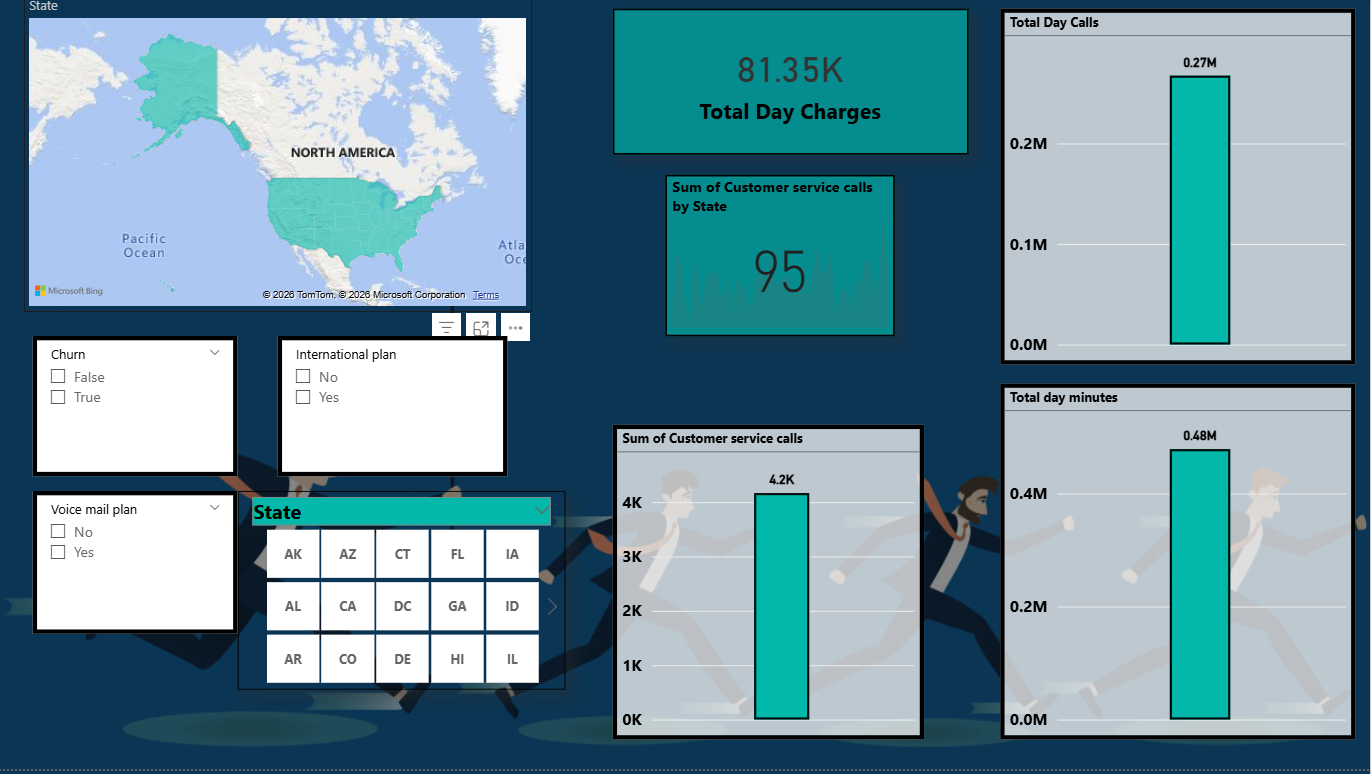

The page's visual inventory and layout, read from the dashboard file:
{"tool":"powerbi","page":{"name":"Day Calls","canvas":[1280,720],"ordinal":0},"visuals":[{"type":"clusteredColumnChart","title":"Total Day Calls","fields":{"Y":["Sum(churn-bigml-80.Total day calls)"]},"box":[936,11.6,330.2,331.4],"z":0},{"type":"columnChart","title":"Total day minutes","fields":{"Y":["Sum(churn-bigml-80.Total day minutes)"]},"box":[936,360.5,330.2,331.4],"z":1000},{"type":"card","fields":{"Values":["churn-bigml-80.Total Day Charges"]},"box":[575.6,11.6,331.4,136],"z":2000},{"type":"slicer","fields":{"Values":["churn-bigml-80.State"]},"box":[226.7,460.5,304.7,184.9],"z":3000},{"type":"filledMap","fields":{"Category":["churn-bigml-80.State"]},"box":[27.9,0,472.1,294.2],"z":4000},{"type":"slicer","fields":{"Values":["churn-bigml-80.Churn"]},"box":[36,316.3,190.7,130.2],"z":5000},{"type":"clusteredColumnChart","fields":{"Y":["Sum(churn-bigml-80.Customer service calls)"]},"box":[575.6,398.8,289.5,293],"z":6000},{"type":"slicer","fields":{"Values":["churn-bigml-80.International plan"]},"box":[264,316.3,214,130.2],"z":7000},{"type":"slicer","fields":{"Values":["churn-bigml-80.Voice mail plan"]},"box":[36,460.5,190.7,132.6],"z":8000},{"type":"kpi","fields":{"Indicator":["Sum(churn-bigml-80.Customer service calls)"],"TrendLine":["churn-bigml-80.State"]},"box":[624.4,166.3,214,150],"z":8001}]}

Visuals, with their boxes in screenshot pixels (x1, y1, x2, y2), scaled from the page's 1280x720 canvas onto the 1372x774 screenshot:
"Total Day Calls" clusteredColumnChart: select_region(1003, 12, 1357, 369)
"Total day minutes" columnChart: select_region(1003, 388, 1357, 744)
card - churn-bigml-80.Total Day Charges: select_region(617, 12, 972, 159)
slicer - churn-bigml-80.State: select_region(243, 495, 570, 694)
filledMap - churn-bigml-80.State: select_region(30, 0, 536, 316)
slicer - churn-bigml-80.Churn: select_region(39, 340, 243, 480)
clusteredColumnChart - Sum(churn-bigml-80.Customer service calls): select_region(617, 429, 927, 744)
slicer - churn-bigml-80.International plan: select_region(283, 340, 512, 480)
slicer - churn-bigml-80.Voice mail plan: select_region(39, 495, 243, 638)
kpi - Sum(churn-bigml-80.Customer service calls) x churn-bigml-80.State: select_region(669, 179, 899, 340)
